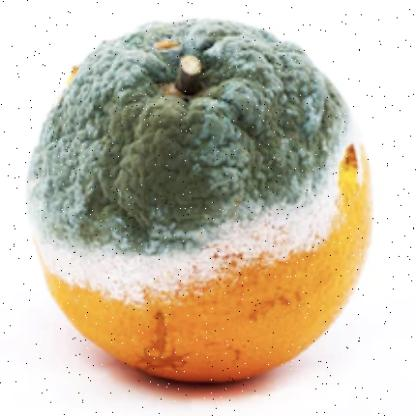rotten: (31, 16, 373, 387)
